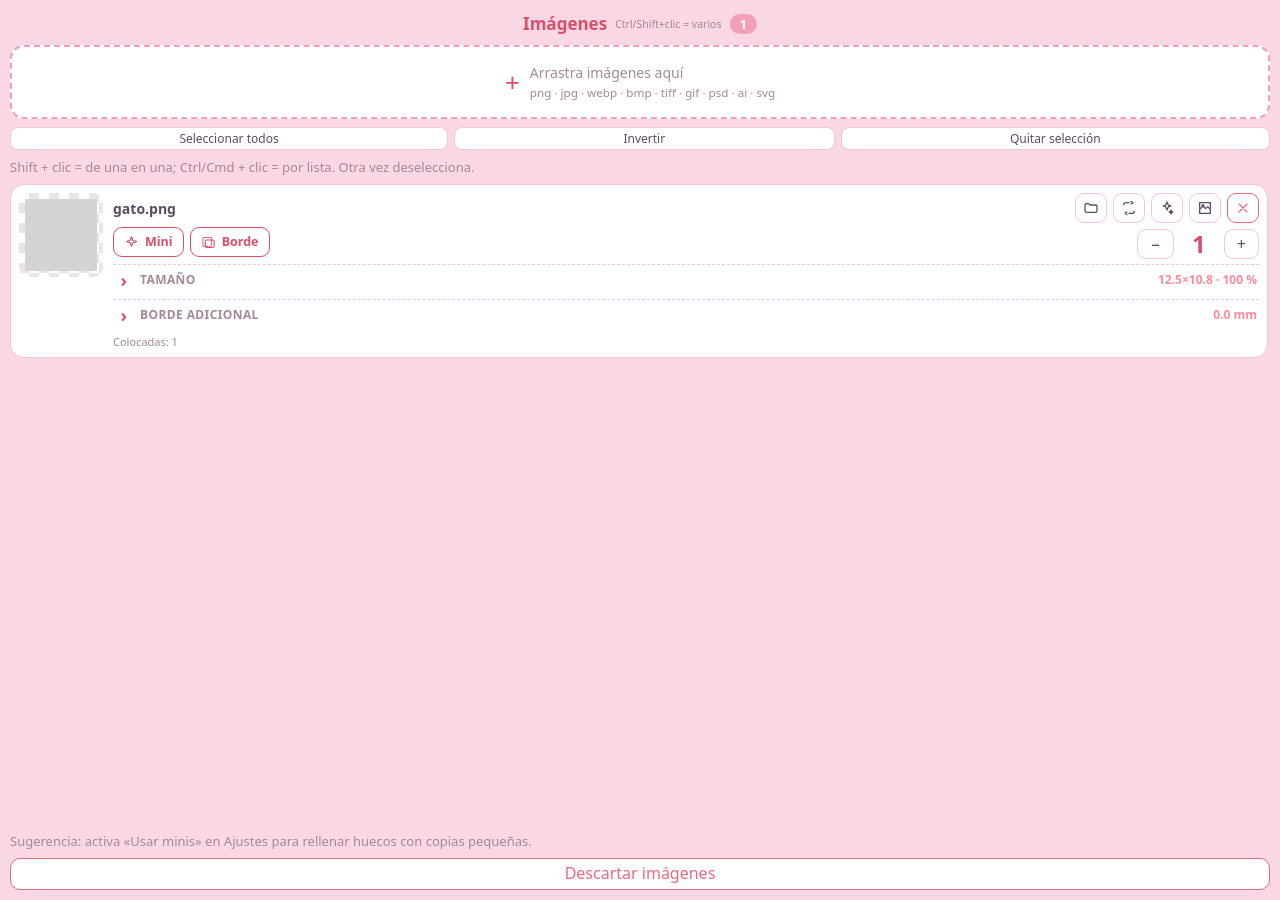
Panel de archivos › cada tarjeta tiene preview, nombre, copias con +/− y borrado
The image size is (1280, 900).
Expected: the text with test id "copias-a1" reads "1", 1192,227 -> 1206,260
Click the button with test id "suma-a1" at (1241, 244), box 1224,229 -> 1259,259
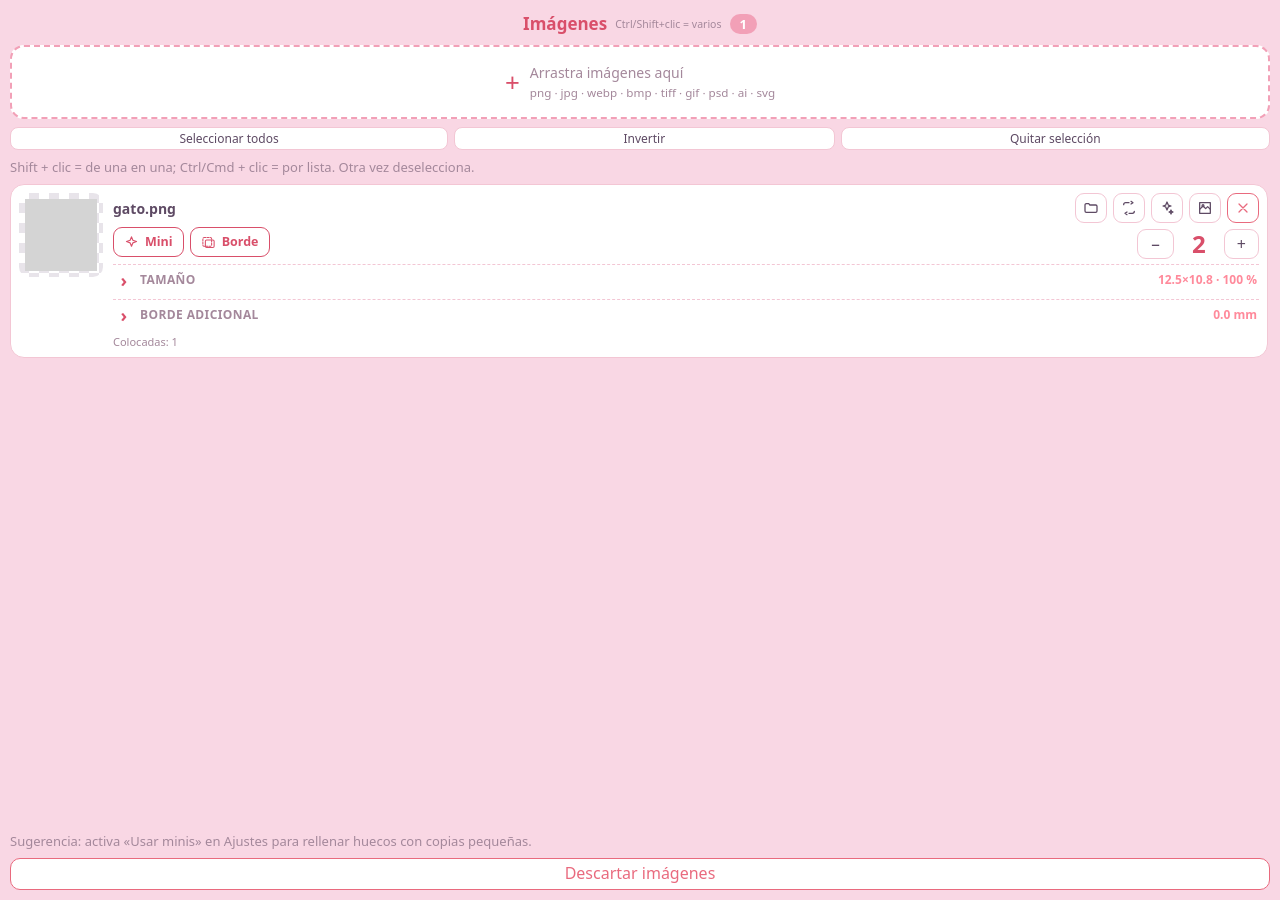
Expected: the text with test id "copias-a1" reads "2", 1192,227 -> 1206,260
